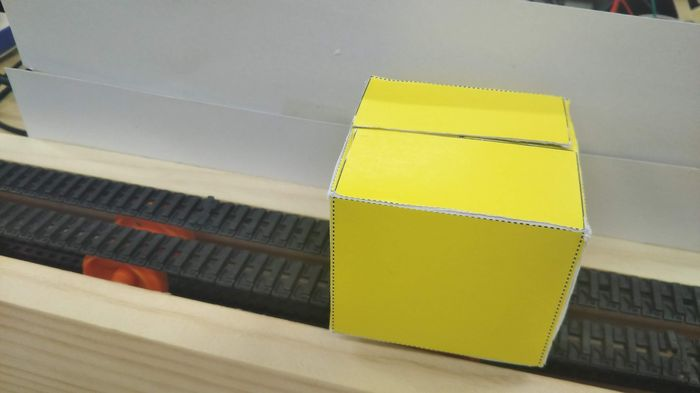box4: (319, 70, 589, 372)
